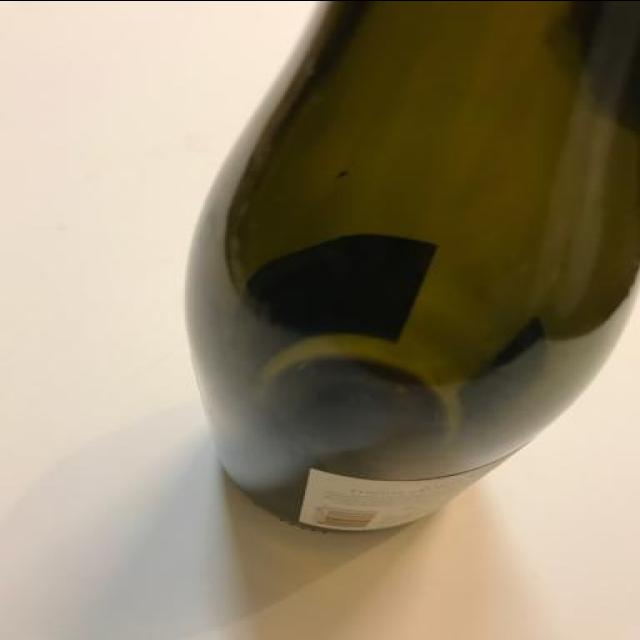glass: (148, 3, 640, 557)
